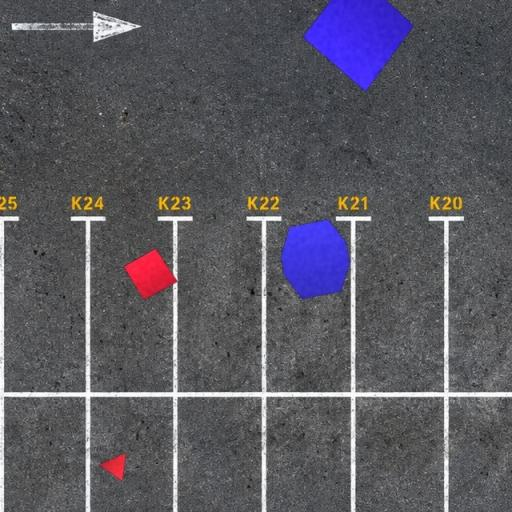BLUE_SQUARE: (302, 0, 414, 92)
RED_SQUARE: (124, 248, 178, 301)
